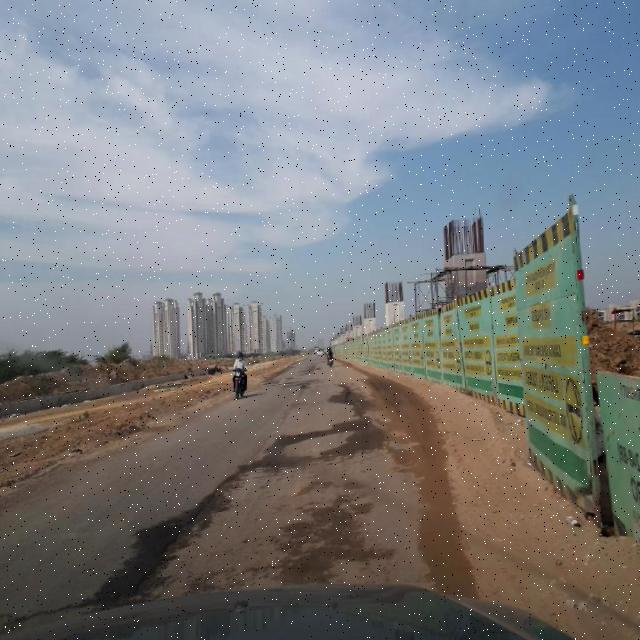D00: (137, 464, 245, 591), (343, 378, 405, 460), (260, 372, 312, 450)
D10: (250, 437, 410, 479)
D20: (265, 489, 372, 580)
